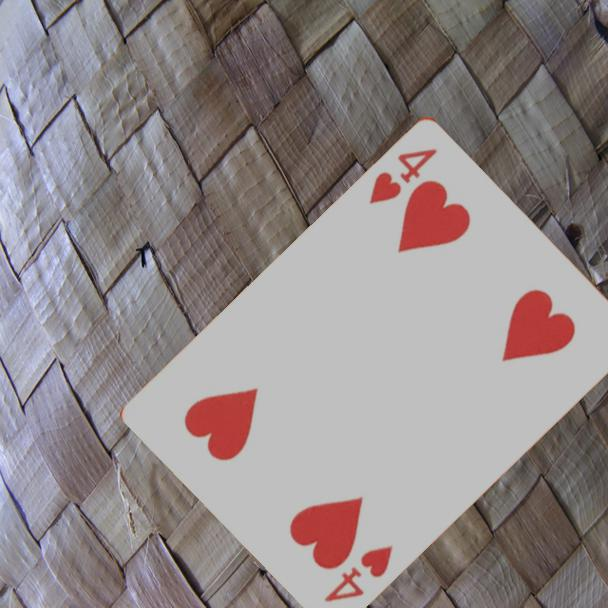h04: (320, 540, 397, 604), (365, 144, 441, 207)
